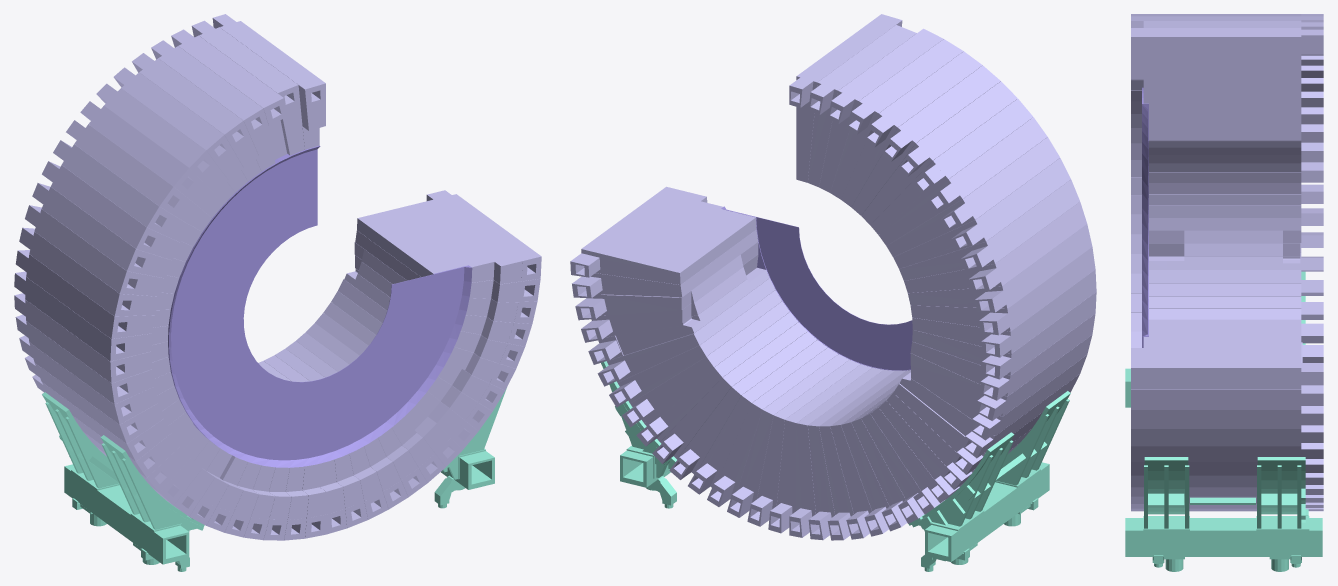
Rendered from Tile-End-Cap-SideC-cut3.glb.
The picture shows the model from 3 angles, left to right: view 1: azimuth 30°, elevation 25°; view 2: azimuth 150°, elevation 25°; view 3: azimuth 270°, elevation 25°; orthographic projection.
Parts seen in each view (by area): view 1: null; view 2: null; view 3: null.
Boxes of the visible parts, x1,y1,x2,y2 form: null: (14,14,541,571); null: (570,14,1096,571); null: (1125,14,1323,571).
Size of the model in its own units: 8.47 by 8.73 by 3.37.
